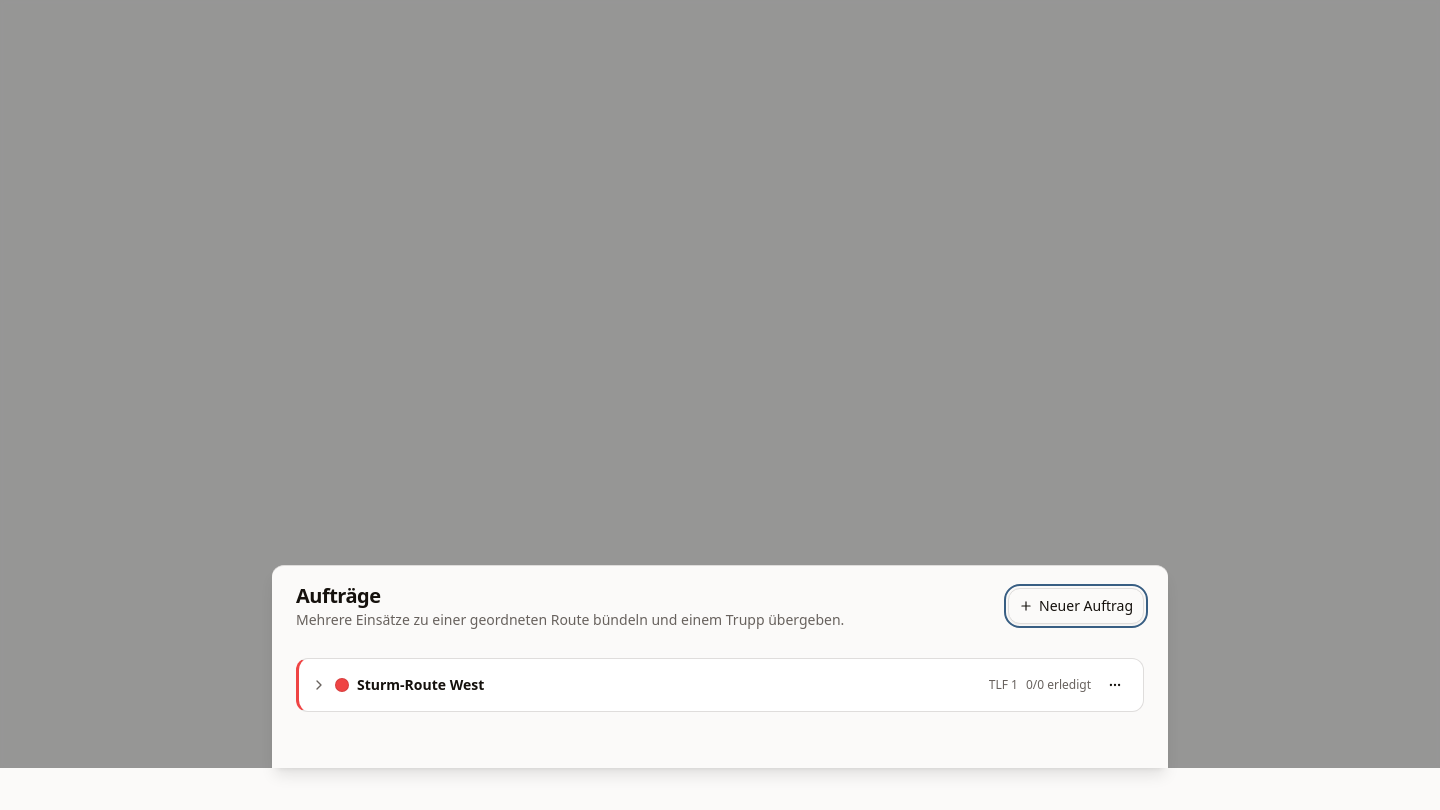
Test: AuftraegeSheet — Ressourcen (route-owned) › names the driver on a route's Fahrzeug chip
The image size is (1440, 810).
Click the button with aria-label "Auftrag auf-/zuklappen": (421, 684) top-left (299, 659), bottom-right (1143, 711)
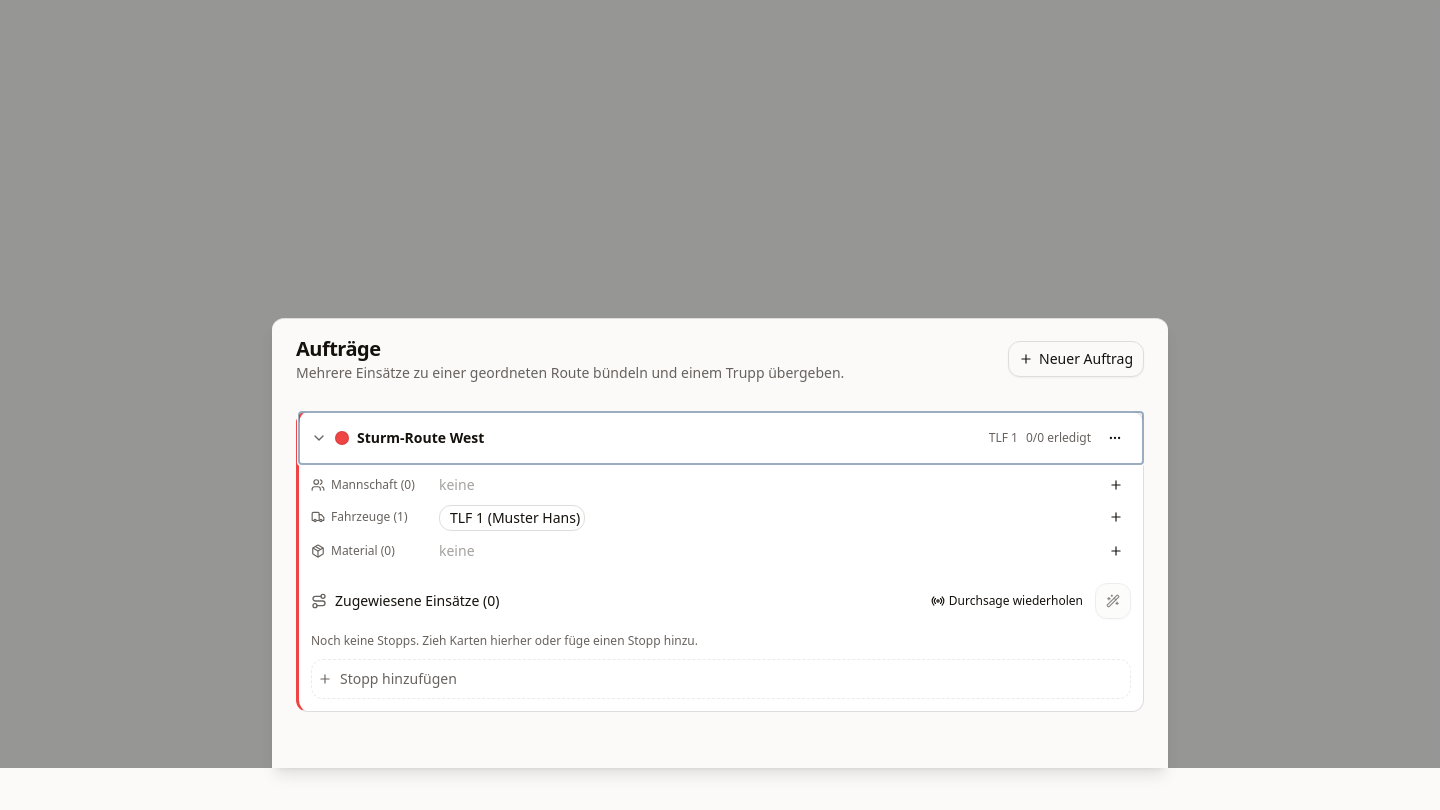
expect the button "TLF 1 (Muster Hans)" is shown: met, box top-left (439, 505), bottom-right (585, 531)
